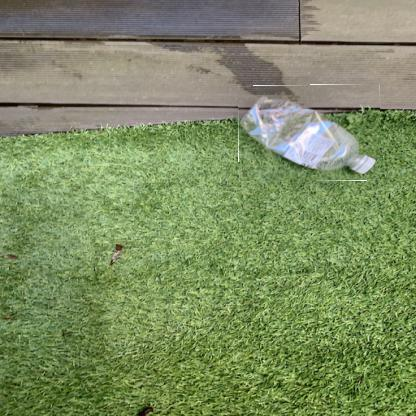plastic-bottles: (239, 84, 381, 182)
